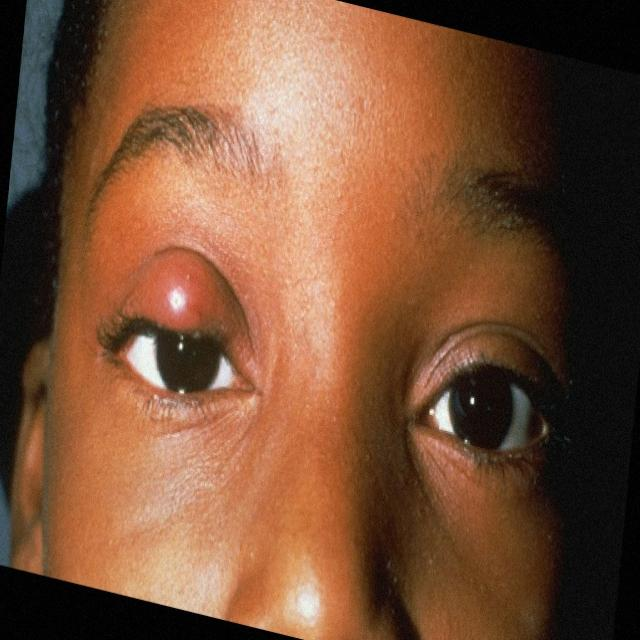Chalazion: (100, 248, 261, 439)
Healthy-Eye: (407, 320, 575, 477)
